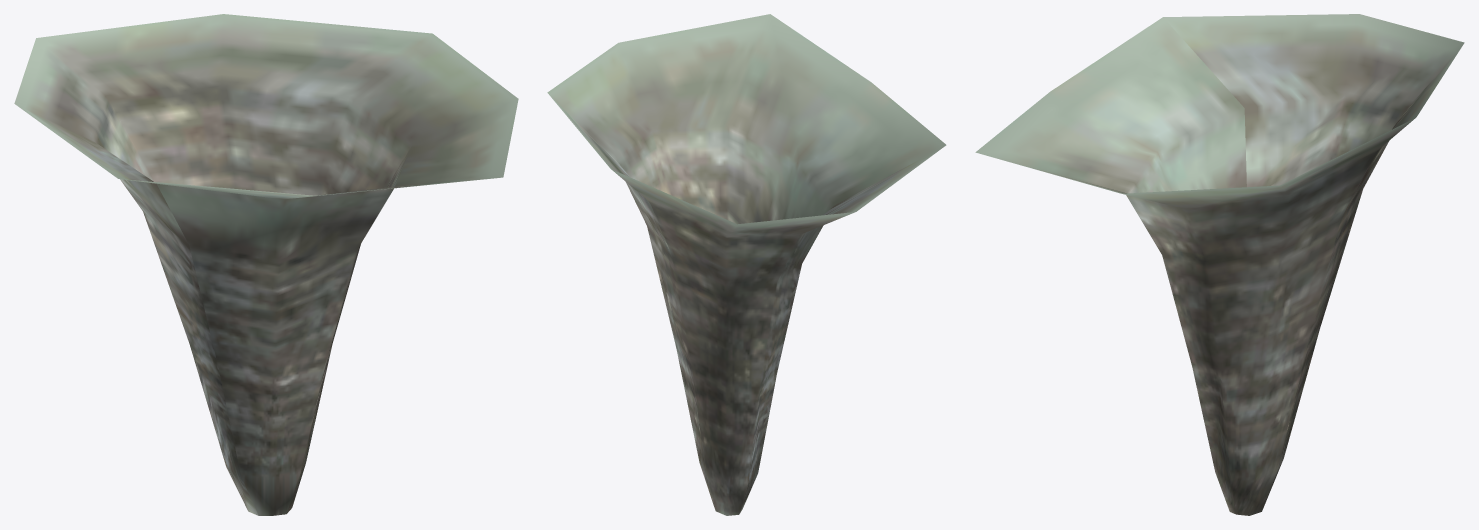
Rendered from TROLLHOLE02_PS-SECRETSTALAG45.fbx.
3 views of the same model, side by side, from view 1: azimuth 30°, elevation 25°; view 2: azimuth 150°, elevation 25°; view 3: azimuth 270°, elevation 25° (orthographic). The views are drawn at different scales.
Visible parts, largest first — view 1: TROLLHOLE02_PS-SECRETSTALAG45; view 2: TROLLHOLE02_PS-SECRETSTALAG45; view 3: TROLLHOLE02_PS-SECRETSTALAG45.
Boxes of the visible parts, <box> form: TROLLHOLE02_PS-SECRETSTALAG45: <box>14,14,518,515</box>; TROLLHOLE02_PS-SECRETSTALAG45: <box>547,14,946,515</box>; TROLLHOLE02_PS-SECRETSTALAG45: <box>975,14,1464,515</box>.
Bounding box in the file's own units: 21322 × 22742 × 24346.
Materials: 1 (1 with a texture image).
